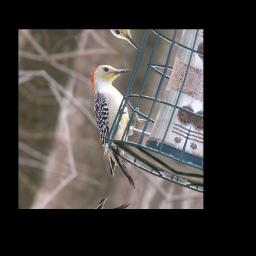Woodpecker: (63, 54, 168, 190)
